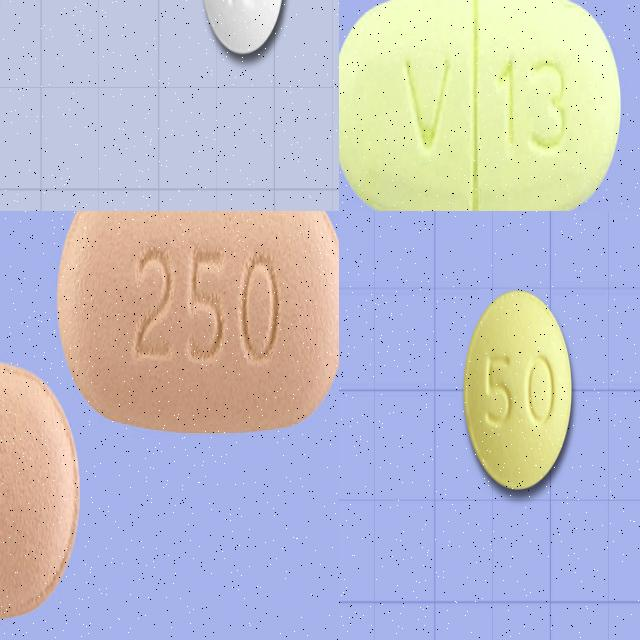Levoxacin -500mg: (59, 211, 339, 434), (0, 358, 80, 622)
R-A Tab: (200, 0, 285, 55)
Retos Tab: (339, 0, 622, 211)
Tricyline-N Cap: (463, 288, 573, 494)
